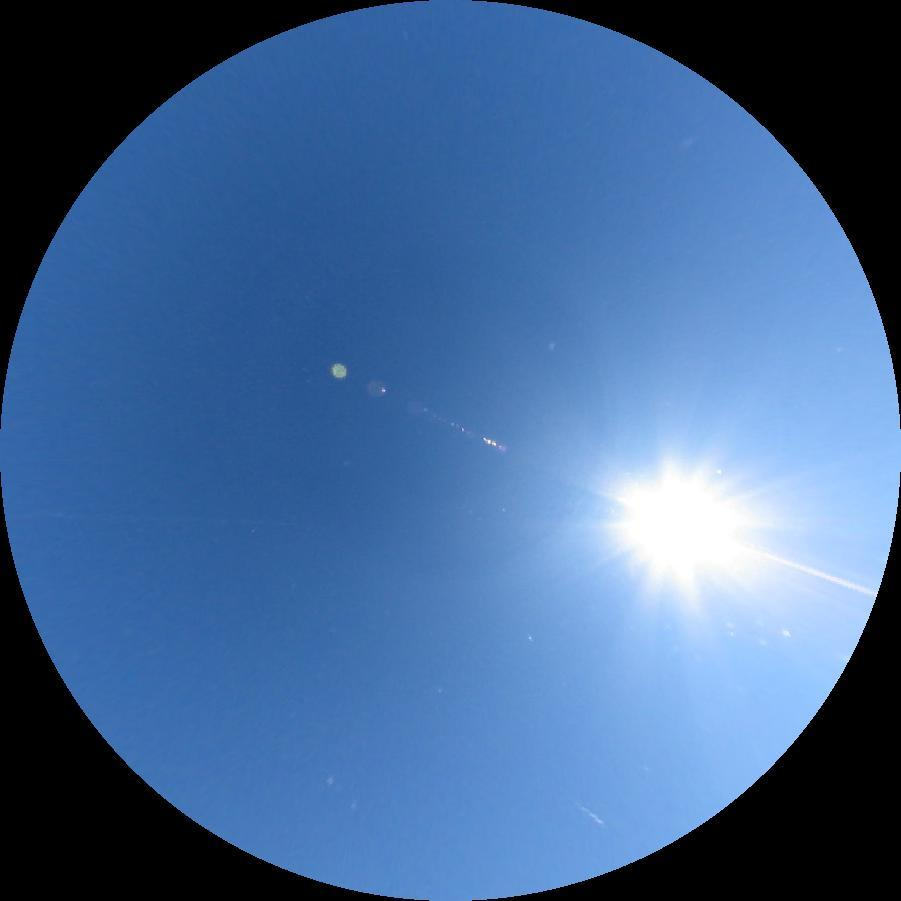contrail young: (574, 798, 606, 829)
parasite: (739, 542, 880, 596)
sun: (609, 452, 756, 599)
